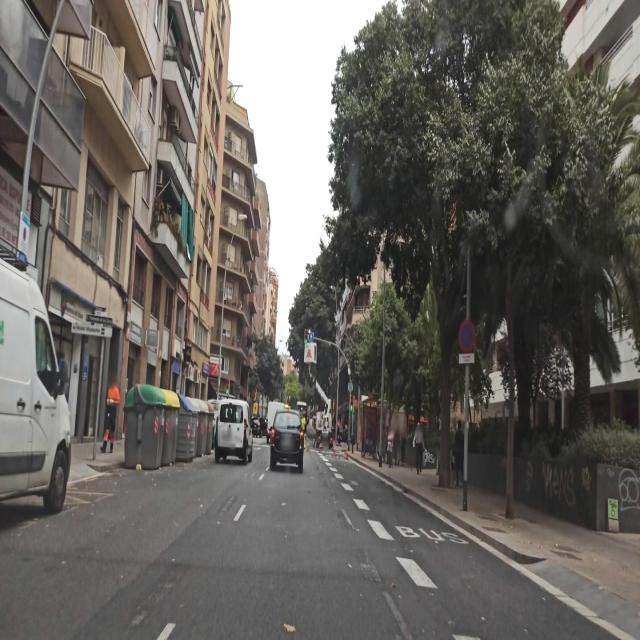car: (214, 398, 253, 465), (270, 410, 304, 472), (266, 401, 288, 444), (250, 416, 260, 439)
